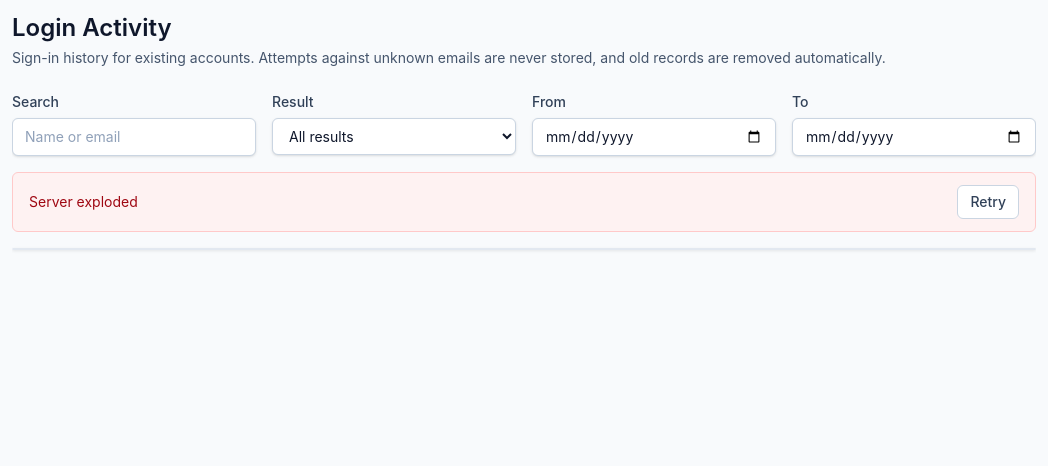
Test: LoginActivityPage › shows the error with a working Retry
Expected: the text "Server exploded" is shown, [29,192,138,212]
Click the button "Retry": (988, 202) [957,185,1019,219]
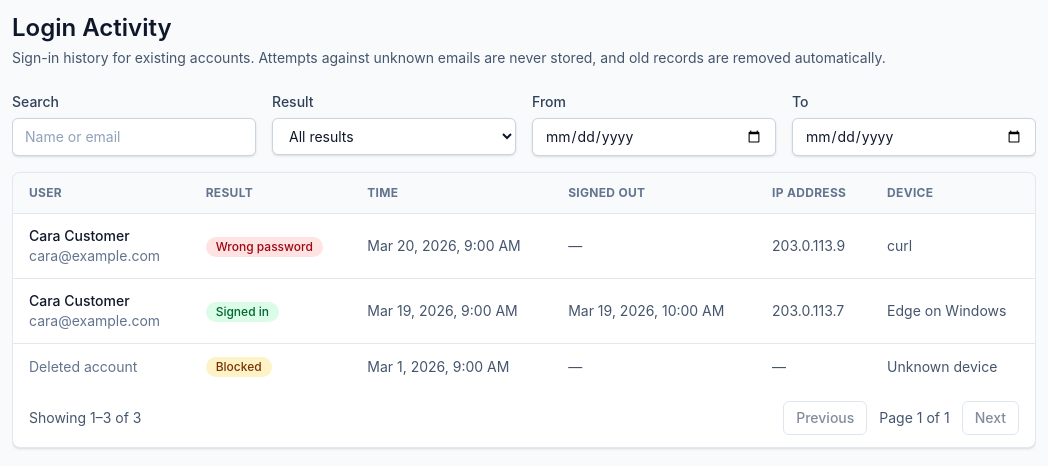
Result: the text "cara@example.com" is shown 2 times at [29,246,174,266]; [29,311,174,331]
Result: the text "Server exploded" is gone
